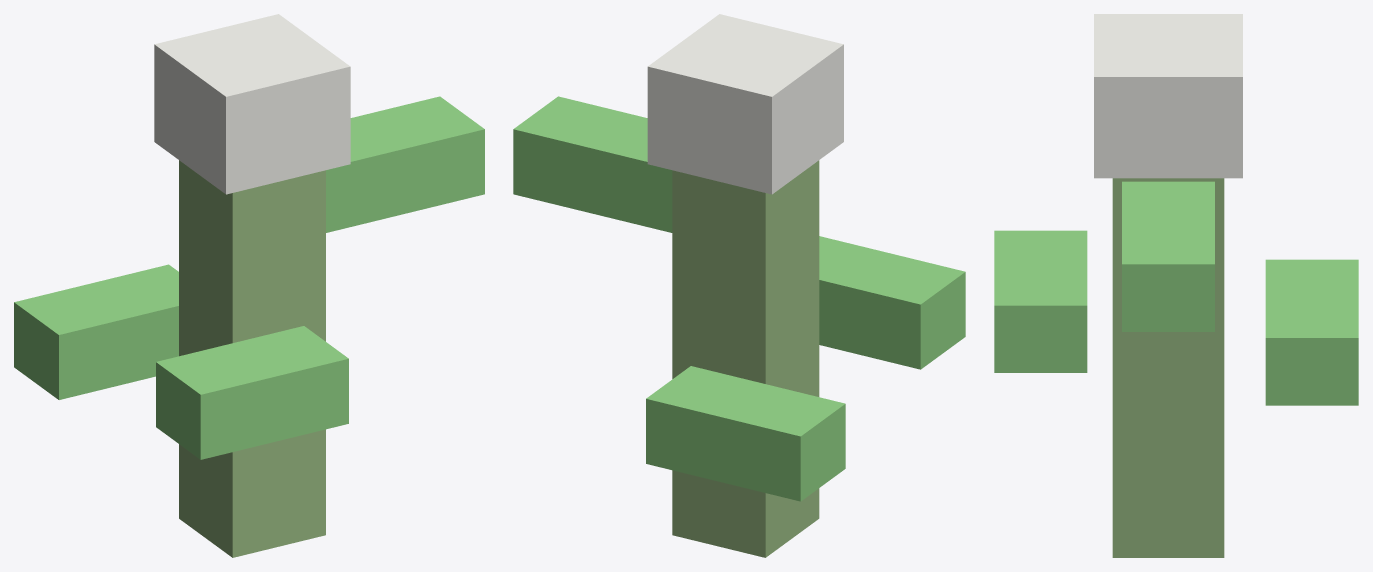
The model's file is Prop_Herb_AMF_Pawmint_V1.glb.
3 views of the same model, side by side, from view 1: azimuth 30°, elevation 25°; view 2: azimuth 150°, elevation 25°; view 3: azimuth 270°, elevation 25° (orthographic). The views are drawn at different scales.
Parts seen in each view (by area): view 1: Prop_Herb_AMF_Pawmint_V1; view 2: Prop_Herb_AMF_Pawmint_V1; view 3: Prop_Herb_AMF_Pawmint_V1.
Part boxes in pixels (x1,y1,x2,y2): Prop_Herb_AMF_Pawmint_V1: [14, 14, 484, 557]; Prop_Herb_AMF_Pawmint_V1: [513, 14, 965, 557]; Prop_Herb_AMF_Pawmint_V1: [994, 14, 1358, 557].
Bounding box in the file's own units: 0.2293 × 0.2896 × 0.1958.
